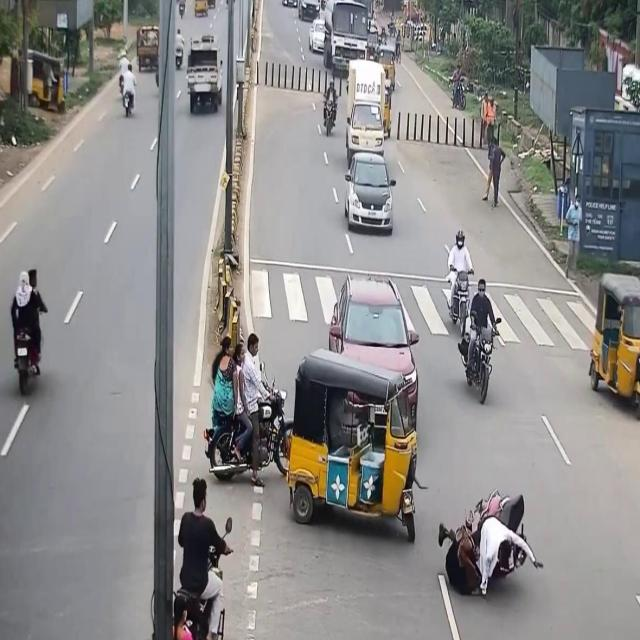accident: (432, 477, 543, 615)
non_accident: (306, 0, 402, 237), (282, 0, 322, 24), (189, 0, 219, 24)
